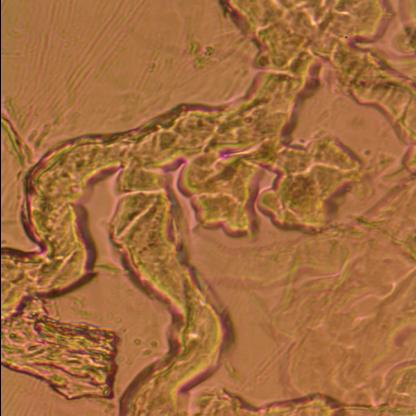Normal: (0, 116, 416, 416), (166, 0, 408, 416)
